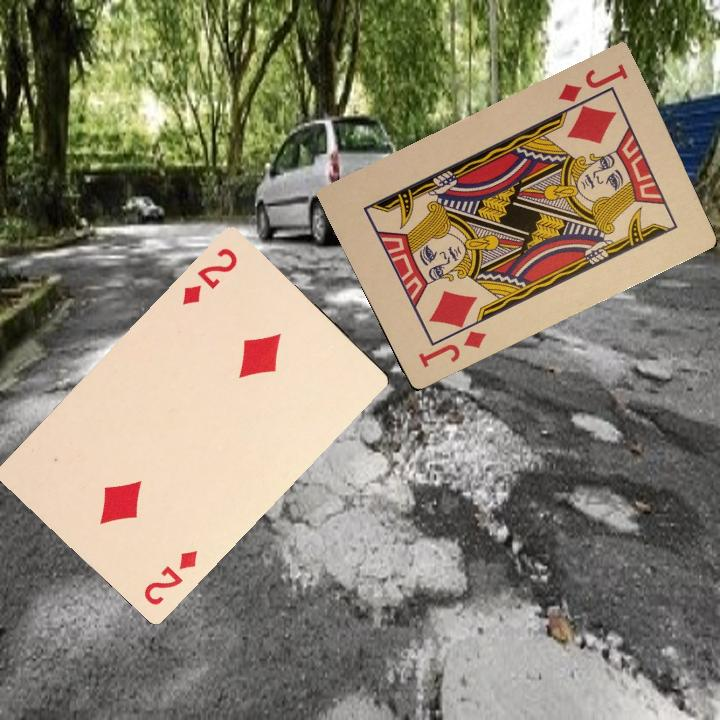2d: (178, 244, 241, 307), (139, 546, 200, 608)
Jd: (552, 60, 631, 105), (414, 326, 488, 370)
